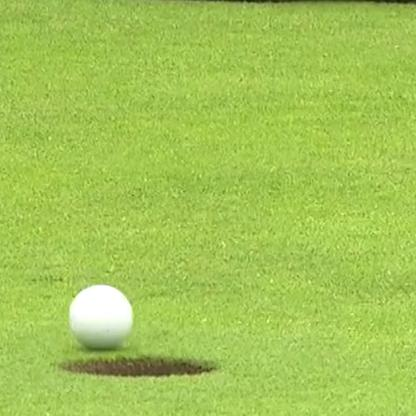golfball: (67, 282, 132, 347)
